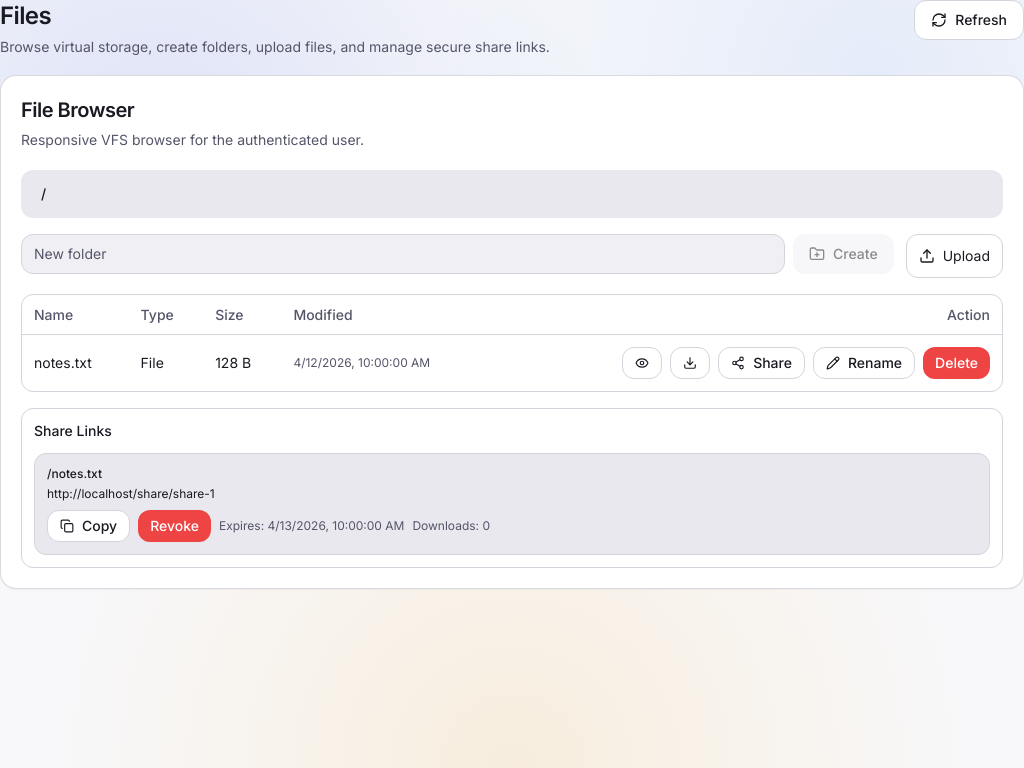
Test case: FilesPage › creates and lists a share link for a file
Expected: the row "notes.txt" is shown, [22, 335, 1002, 391]
Click the button with aria-label "Create share link for notes.txt": [762, 363] box [718, 347, 805, 379]
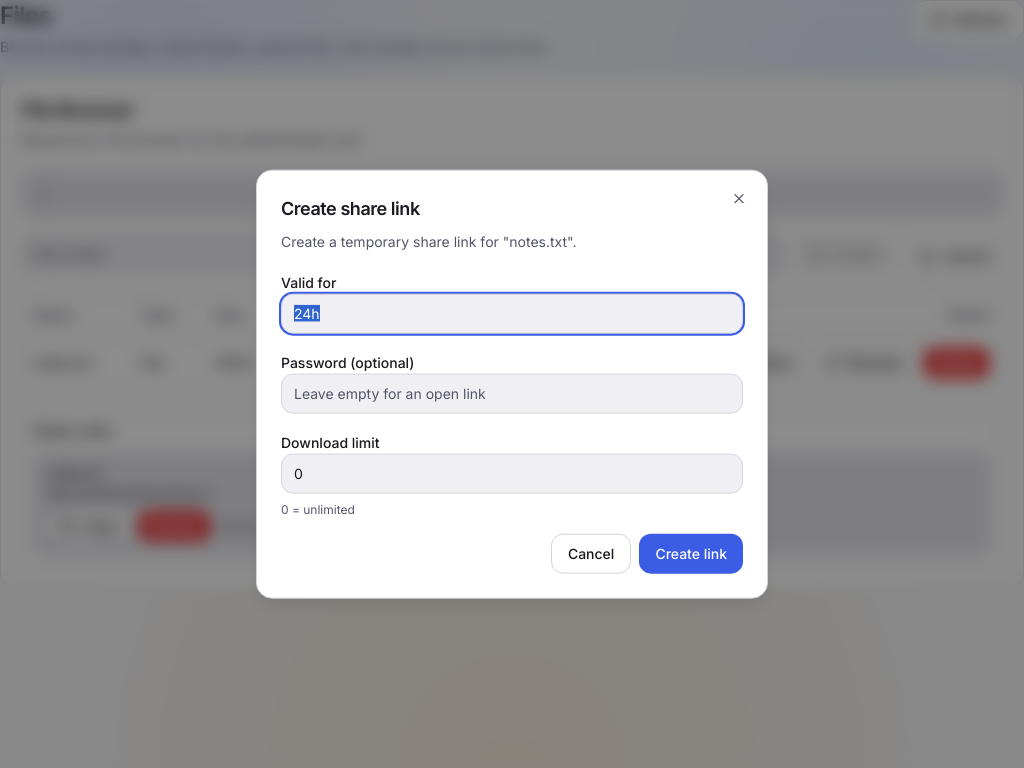
Clear the field labelled "Valid for": [512, 313] box [281, 293, 743, 333]
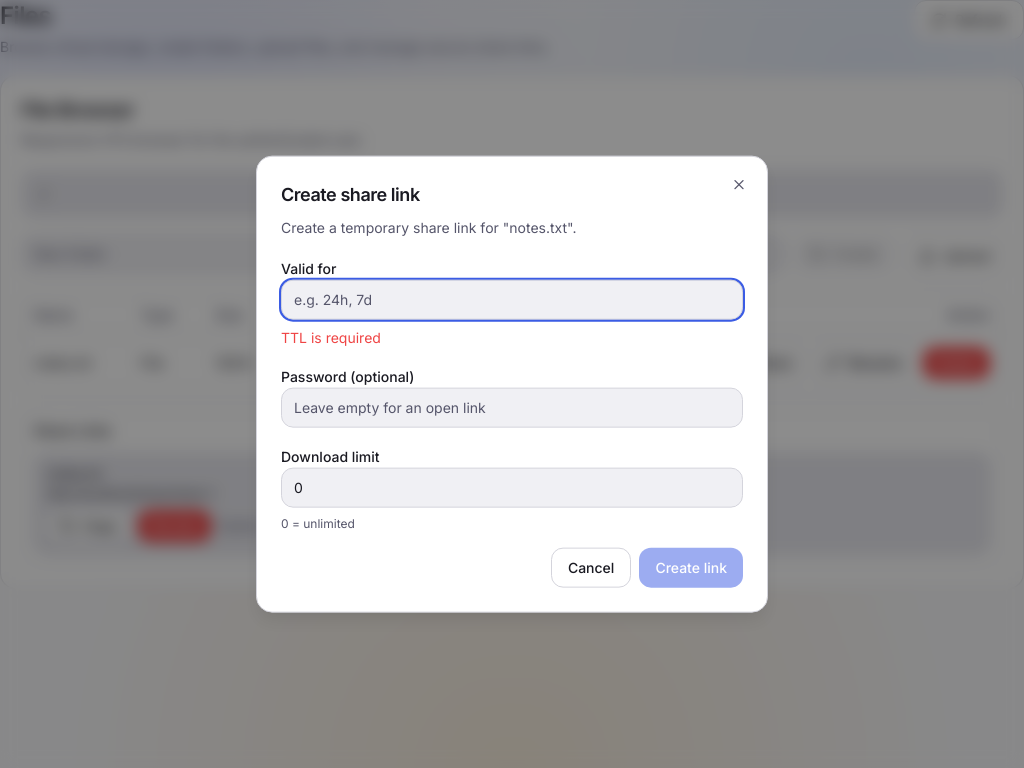
In the field labelled "Valid for": [512, 299] box [281, 279, 743, 319], type "48h"
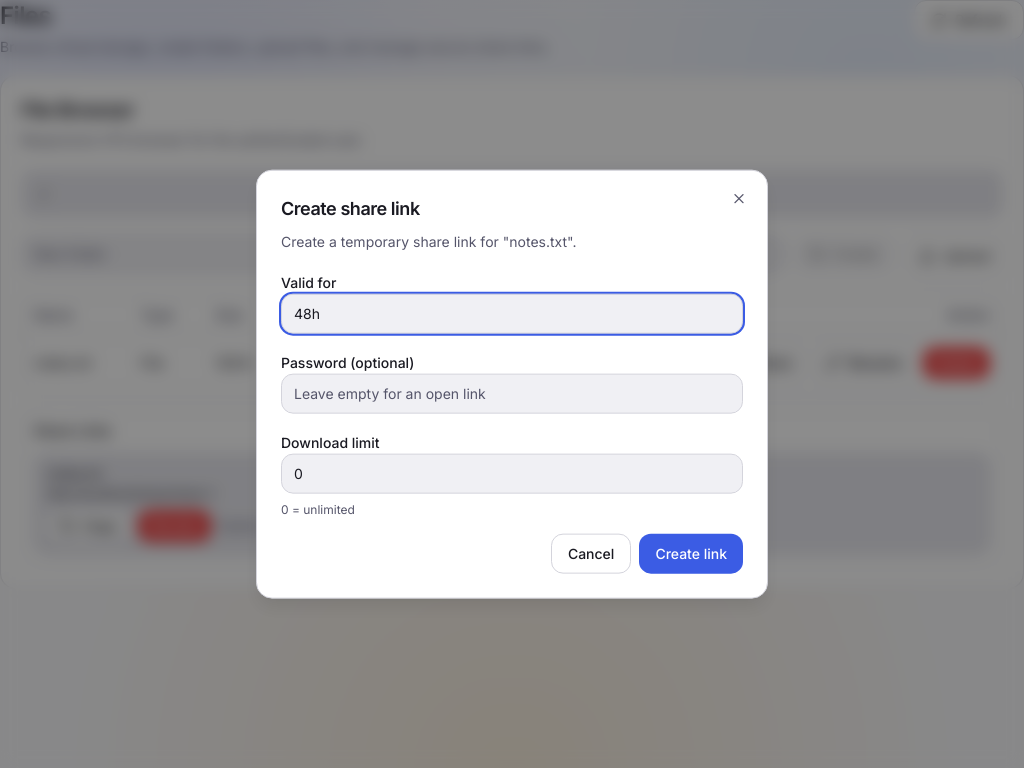
In the password field labelled "Password (optional)": [512, 393] box [281, 373, 743, 413], type "open-sesame"
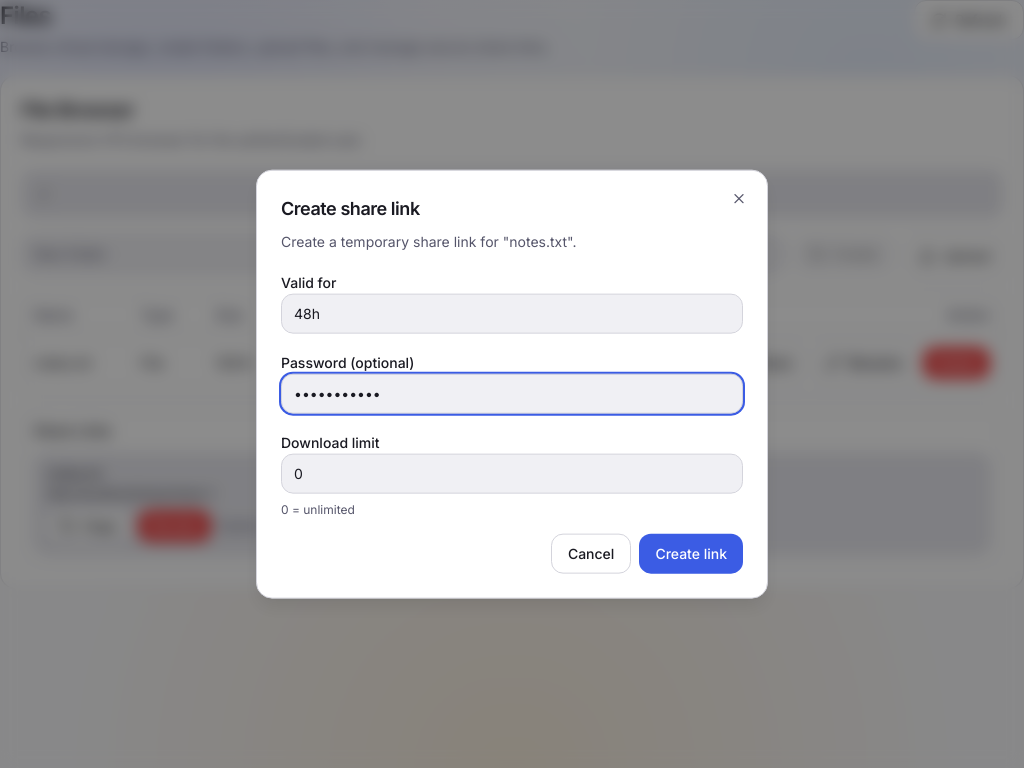
Replace the text in the number field labelled "Download limit" with "3": [512, 473] box [281, 453, 743, 493]
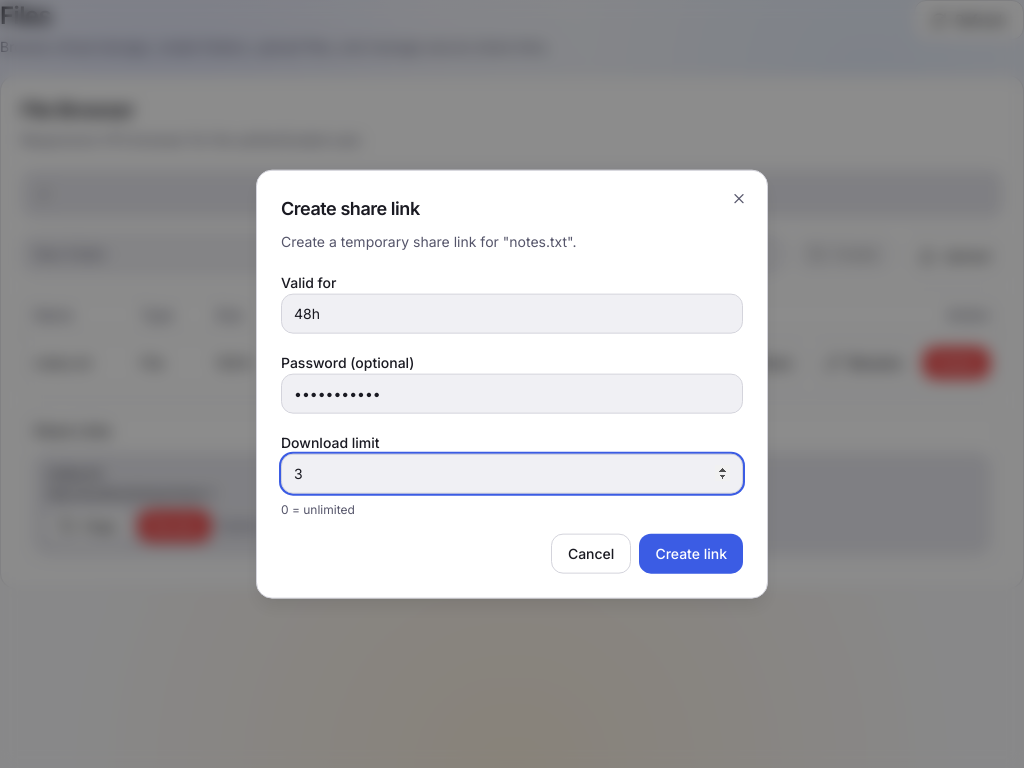
Click the button "Create link": [691, 553] box [639, 533, 743, 573]
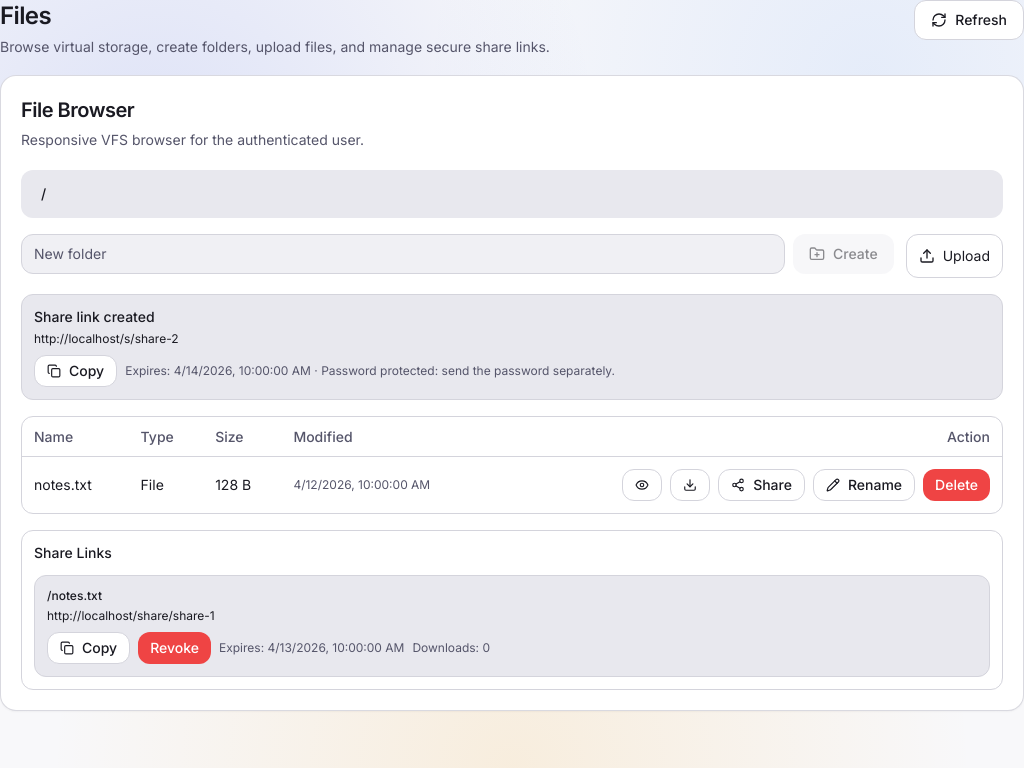
Expected: the text "/notes.txt" is shown, [47, 588, 102, 603]
Now the text "Share link created" is shown, box [34, 308, 155, 325]
